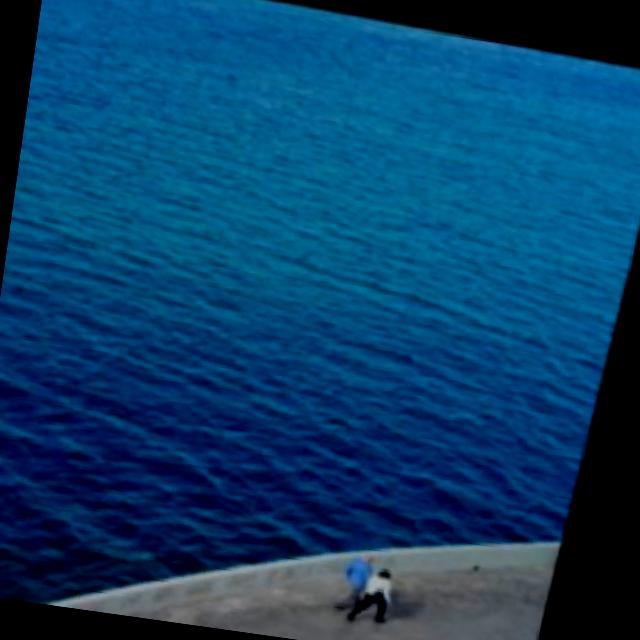Person: (354, 552, 416, 630), (338, 541, 383, 618)
